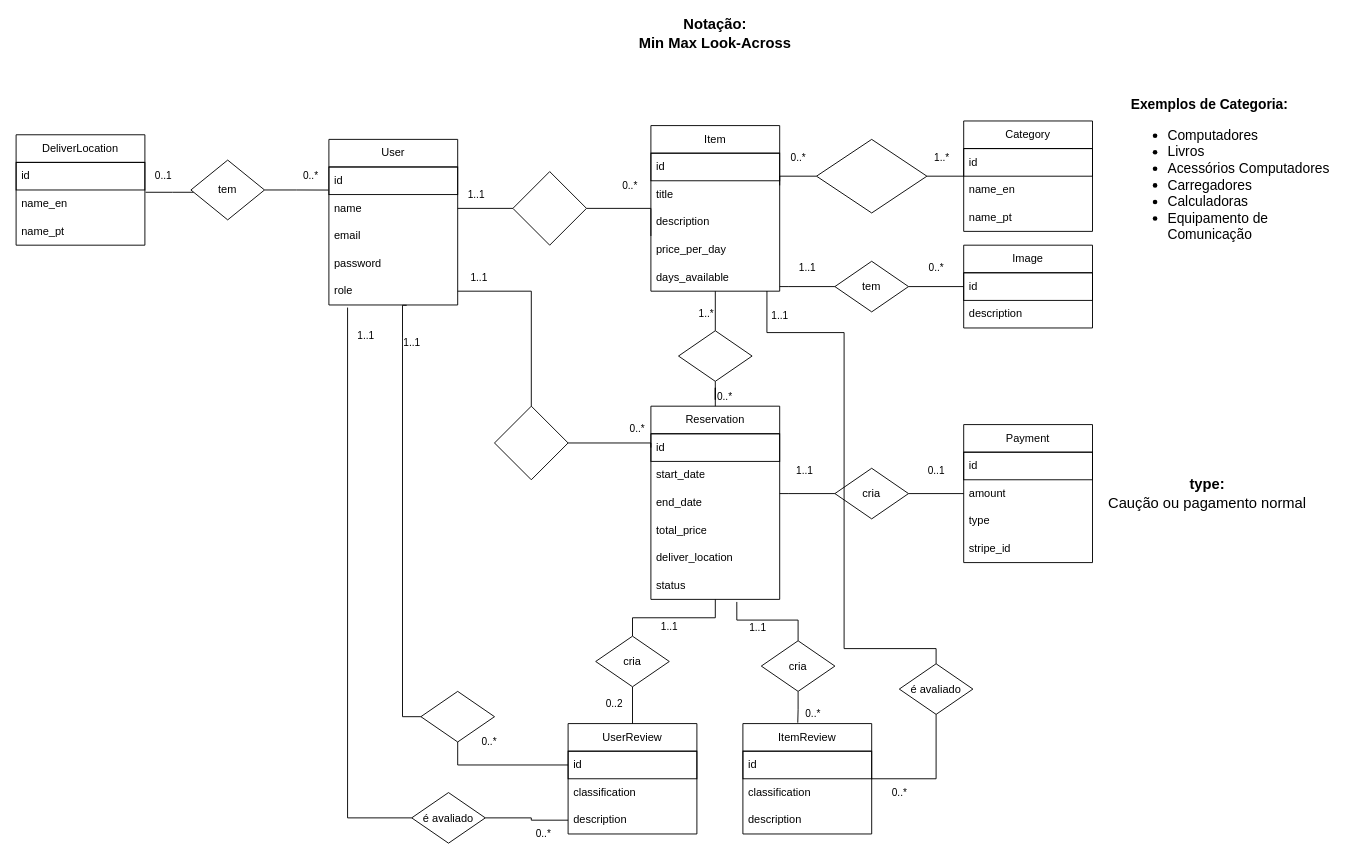
The diagram is 1366 pixels wide and 859 high, and some of its shapes have lost their labels. The shapes that lost their labels are listed below. From the top down, each one's centre as x and y in pixels, then its label:
At (871,175): "pertence a".
At (549,208): "anuncia".
At (715,355): "reservado".
At (531,442): "faz".
At (457,716): "avalia".
